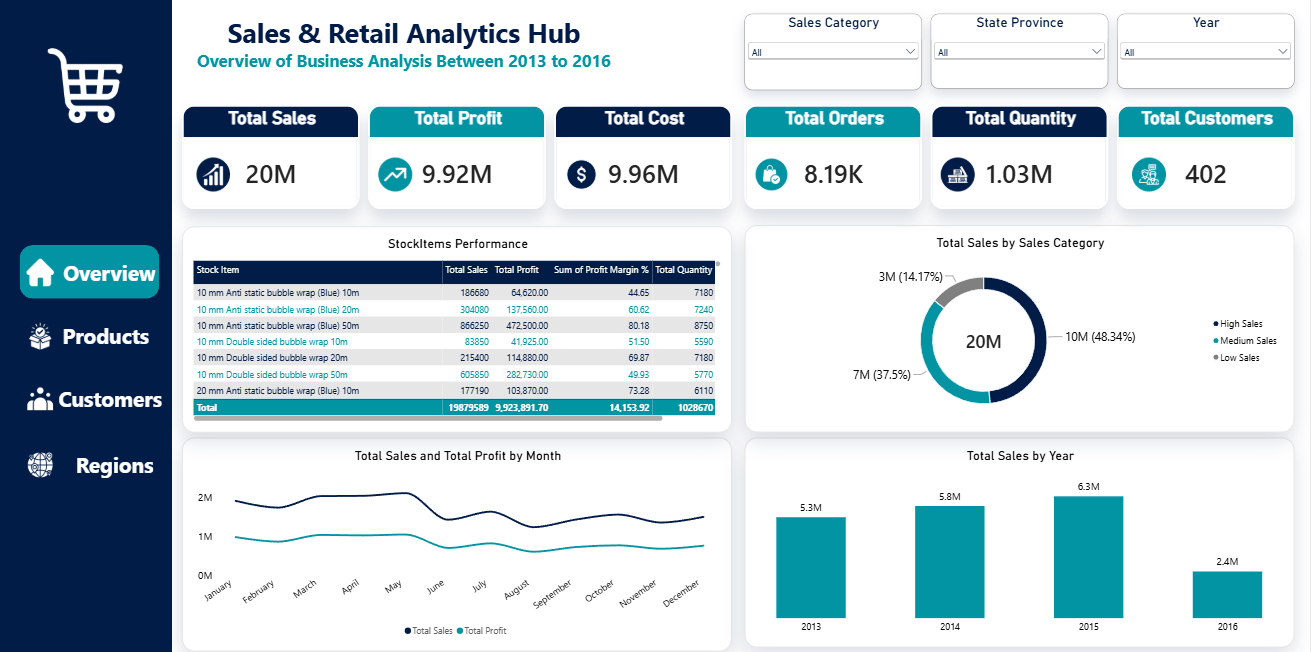

The dashboard page shown, as its layout file describes it:
{"tool":"powerbi","page":{"name":"Overview","canvas":[2110,1070],"ordinal":0},"visuals":[{"type":"shape","box":[10,0,278,1070],"z":0},{"type":"textbox","box":[304,30,710,108],"z":1000},{"type":"lineChart","fields":{"Category":["DimDate.Date.Variation.Date Hierarchy.Month"],"Y":["FactSale.Total Sales","FactSale.Total Profit"]},"box":[304,708,880,342],"z":2000},{"type":"cardVisual","title":"Total Sales","fields":{"Data":["FactSale.Total Sales"]},"box":[304,176,284,166],"z":3000},{"type":"columnChart","fields":{"Category":["DimDate.Date.Variation.Date Hierarchy.Year"],"Y":["FactSale.Total Sales"]},"box":[1204,708,880,336],"z":4000},{"type":"cardVisual","title":"Total Profit","fields":{"Data":["FactSale.Total Profit"]},"box":[602,176,284,166],"z":5000},{"type":"donutChart","title":"Total Sales by Sales Category","fields":{"Category":["FactSale.Sales Category"],"Y":["FactSale.Total Sales"]},"box":[1204,368,880,332],"z":6000},{"type":"cardVisual","title":"Total Orders","fields":{"Data":["FactSale.Total Orders"]},"box":[1204,176,284,166],"z":7000},{"type":"cardVisual","title":"Total Customers","fields":{"Data":["DimCustomer.Total Customers"]},"box":[1800,176,284,166],"z":8000},{"type":"cardVisual","title":"Total Quantity","fields":{"Data":["FactSale.Total Quantity"]},"box":[1502,176,284,166],"z":9000},{"type":"cardVisual","title":"Total Cost","fields":{"Data":["Sum(FactSale.Total Cost)"]},"box":[900,176,284,166],"z":10000},{"type":"slicer","title":"Year","fields":{"Values":["DimDate.Date.Variation.Date Hierarchy.Year"]},"box":[1800,30,284,120],"z":11000},{"type":"slicer","title":"State Province","fields":{"Values":["DimCity.State Province"]},"box":[1502,30,284,120],"z":12000},{"type":"slicer","title":"Sales Category","fields":{"Values":["FactSale.Sales Category"]},"box":[1204,30,284,122],"z":13000},{"type":"image","box":[304,260,100,54],"z":14000},{"type":"image","box":[602,260,86,54],"z":15000},{"type":"image","box":[900,260,86,54],"z":16000},{"type":"image","box":[1204,260,86,54],"z":17000},{"type":"image","box":[1502,260,86,54],"z":18000},{"type":"image","box":[1808,260,86,54],"z":19000},{"type":"shape","box":[44,400,224,86],"z":20000,"group":"g1"},{"type":"shape","box":[98,502,168,86],"z":20000},{"type":"image","box":[44,422,66,44],"z":21000,"group":"g1"},{"type":"image","box":[44,524,66,44],"z":21000},{"type":"shape","box":[98,602,182,86],"z":22000},{"type":"image","box":[44,624,66,44],"z":23000},{"type":"shape","box":[118,708,156,86],"z":24000},{"type":"image","box":[44,730,66,44],"z":25000},{"type":"tableEx","title":"StockItems Performance","fields":{"Values":["DimStockItem.Stock Item","FactSale.Total Sales","FactSale.Total Profit","Sum(FactSale.Profit Margin %)","FactSale.Total Quantity","FactSale.Total Orders"]},"box":[304,370,880,330],"z":26000},{"type":"image","box":[70,84,158,122],"z":27000},{"type":"group","id":"g1","title":"Group 1","box":[44,400,224,86],"z":28000}]}

Visuals, with their boxes in screenshot pixels (x1, y1, x2, y2), scaled from the page's 2110x1070 canvas onto the 1311x652 screenshot:
shape: select_region(6, 0, 179, 651)
textbox: select_region(189, 18, 630, 84)
lineChart - DimDate.Date.Variation.Date Hierarchy.Month x FactSale.Total Sales: select_region(189, 431, 736, 640)
"Total Sales" cardVisual: select_region(189, 107, 365, 208)
columnChart - DimDate.Date.Variation.Date Hierarchy.Year x FactSale.Total Sales: select_region(748, 431, 1295, 636)
"Total Profit" cardVisual: select_region(374, 107, 550, 208)
"Total Sales by Sales Category" donutChart: select_region(748, 224, 1295, 427)
"Total Orders" cardVisual: select_region(748, 107, 925, 208)
"Total Customers" cardVisual: select_region(1118, 107, 1295, 208)
"Total Quantity" cardVisual: select_region(933, 107, 1110, 208)
"Total Cost" cardVisual: select_region(559, 107, 736, 208)
"Year" slicer: select_region(1118, 18, 1295, 91)
"State Province" slicer: select_region(933, 18, 1110, 91)
"Sales Category" slicer: select_region(748, 18, 925, 93)
image: select_region(189, 158, 251, 191)
image: select_region(374, 158, 427, 191)
image: select_region(559, 158, 613, 191)
image: select_region(748, 158, 802, 191)
image: select_region(933, 158, 987, 191)
image: select_region(1123, 158, 1177, 191)
shape: select_region(27, 244, 167, 296)
shape: select_region(61, 306, 165, 358)
image: select_region(27, 257, 68, 284)
image: select_region(27, 319, 68, 346)
shape: select_region(61, 367, 174, 419)
image: select_region(27, 380, 68, 407)
shape: select_region(73, 431, 170, 484)
image: select_region(27, 445, 68, 472)
"StockItems Performance" tableEx: select_region(189, 225, 736, 427)
image: select_region(43, 51, 142, 126)
"Group 1" group: select_region(27, 244, 167, 296)
